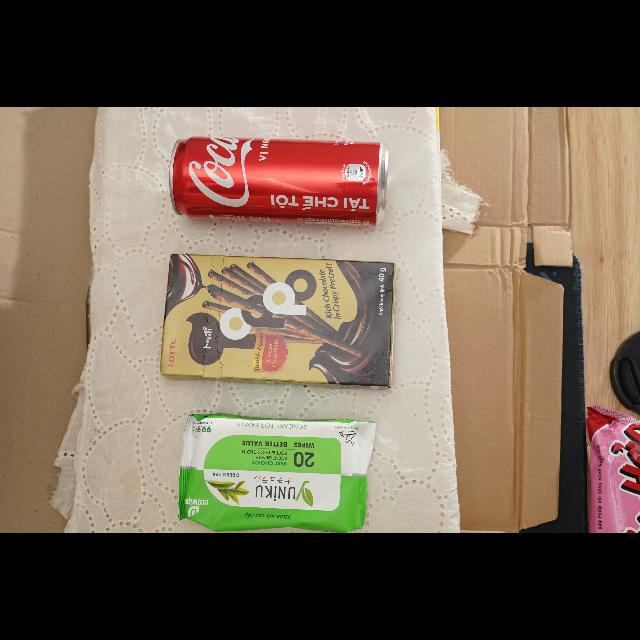banh_toppo_socola: (161, 254, 394, 387)
coca_cola: (170, 137, 389, 225)
khan_giay: (179, 414, 375, 532)
